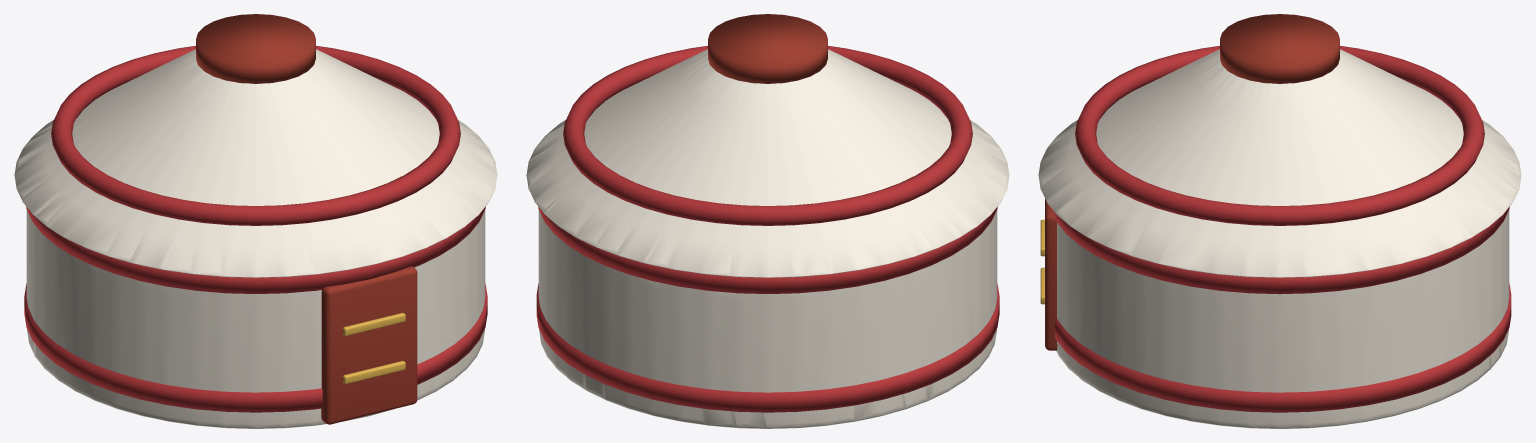
The model's file is plush_yurt.glb.
The picture shows the model from 3 angles, left to right: view 1: azimuth 30°, elevation 25°; view 2: azimuth 150°, elevation 25°; view 3: azimuth 270°, elevation 25°; orthographic projection.
Parts seen in each view (by area): view 1: wall, band0.18, crown, carve0.3; view 2: wall, band0.18, crown; view 3: wall, band0.18, crown.
Part boxes in pixels (x1,y1,x2,y2): wall: (14,49,497,428); band0.18: (24,46,487,412); crown: (196,14,417,424); carve0.3: (343,313,405,384); wall: (526,49,1009,428); band0.18: (536,46,999,412); crown: (708,14,827,83); wall: (1038,49,1521,428); band0.18: (1051,46,1511,412); crown: (1045,14,1339,350).
Size of the model in its own units: 2.73 by 1.84 by 2.73.
